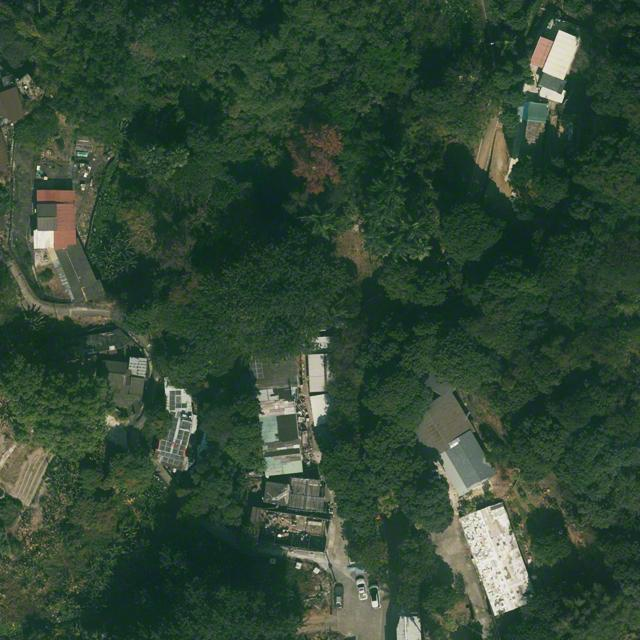panel: (177, 431, 190, 457), (172, 430, 185, 455), (159, 440, 173, 453)
